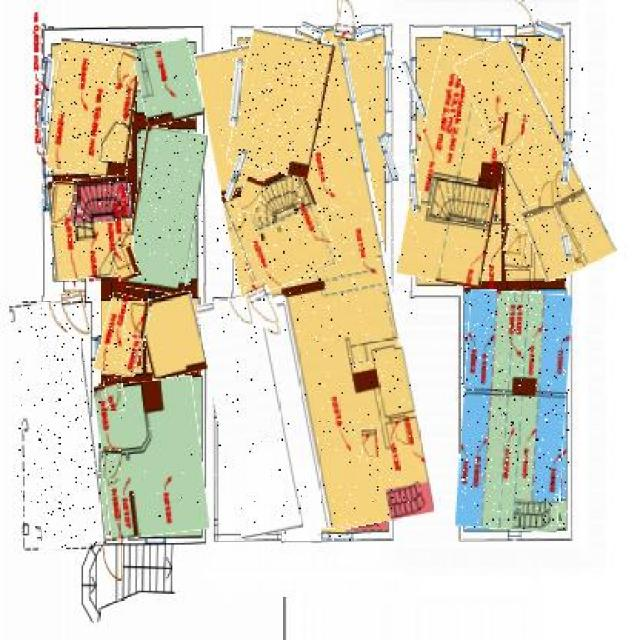door: (62, 289, 89, 340), (249, 280, 277, 328), (52, 183, 80, 226), (334, 0, 361, 42), (506, 228, 528, 269), (238, 178, 262, 214), (112, 52, 134, 91), (126, 302, 148, 338), (502, 114, 524, 148), (114, 249, 138, 280), (515, 0, 535, 35), (104, 378, 124, 411), (103, 446, 122, 479), (502, 224, 523, 253), (363, 428, 379, 457), (540, 180, 555, 208)
window: (229, 149, 245, 202), (40, 59, 52, 128), (230, 60, 242, 128), (408, 60, 422, 117), (382, 134, 396, 181), (534, 18, 563, 38), (297, 25, 325, 43), (563, 129, 572, 185), (411, 151, 418, 212), (359, 26, 383, 43), (320, 529, 351, 540), (472, 26, 500, 37), (43, 156, 48, 207), (384, 48, 394, 70), (563, 235, 572, 257)
zone: (217, 31, 412, 534), (406, 29, 516, 286), (478, 38, 592, 277), (460, 291, 569, 531), (17, 300, 100, 549), (208, 297, 294, 537), (99, 378, 204, 538), (232, 31, 330, 175), (48, 38, 138, 177), (129, 128, 203, 292), (231, 170, 332, 288), (51, 177, 134, 278), (134, 40, 200, 125), (140, 294, 205, 377), (99, 294, 148, 375), (526, 200, 571, 280)
